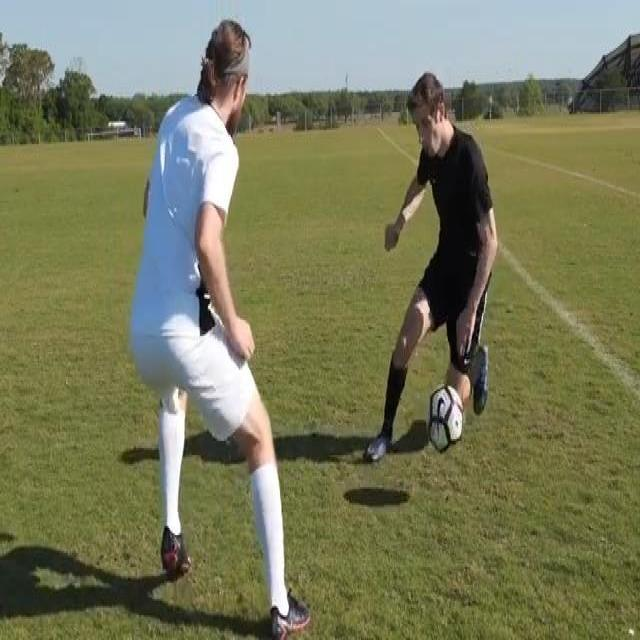Soccer Ball: (424, 385, 464, 454)
